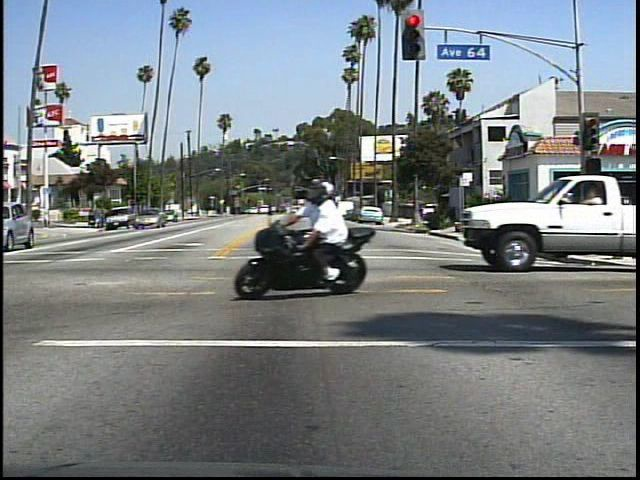person: (294, 176, 369, 289), (544, 192, 573, 245)
